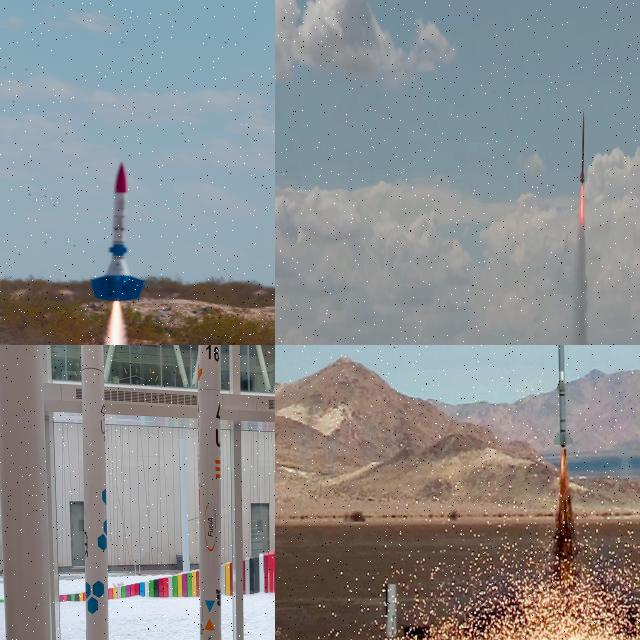Rocket: (81, 345, 109, 640), (90, 161, 146, 303), (198, 345, 221, 640), (552, 345, 573, 448), (580, 111, 585, 187)
